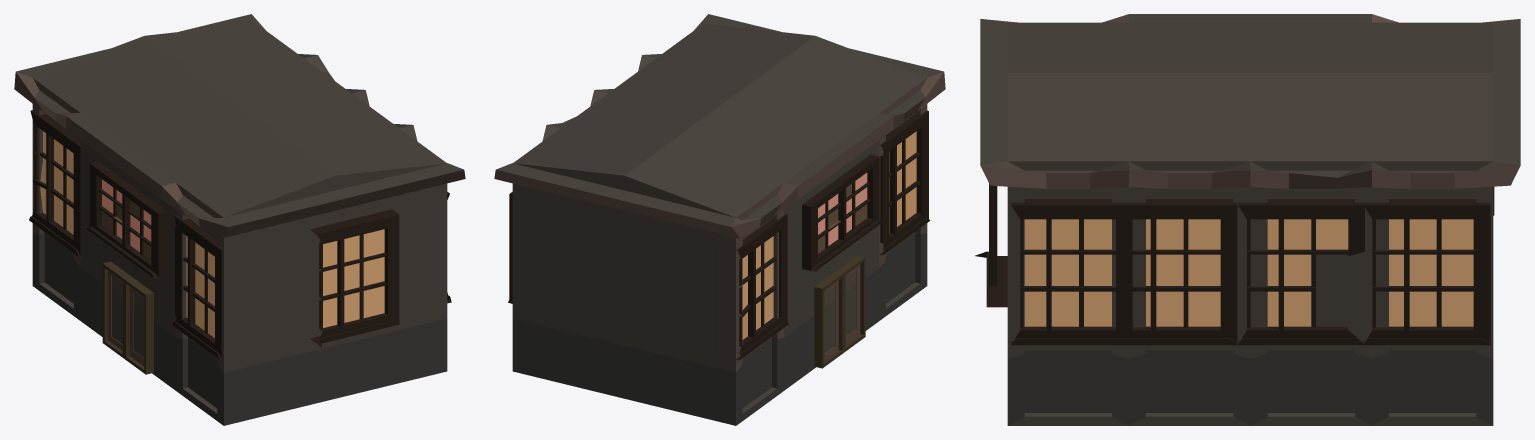
The model's file is warehouse.glb.
3 renders of one model, left to right at view 1: azimuth 30°, elevation 25°; view 2: azimuth 150°, elevation 25°; view 3: azimuth 270°, elevation 25°, orthographic. The views are drawn at different scales.
Visible parts, largest first — view 1: Cube, Cube.001, Cube.002, Cube.003; view 2: Cube, Cube.001, Cube.002, Cube.003; view 3: Cube, Cube.001.
Part boxes in pixels (x1=…): Cube: x1=14, y1=14, x2=465, y2=425; Cube.001: x1=29, y1=110, x2=451, y2=359; Cube.002: x1=86, y1=161, x2=167, y2=278; Cube.003: x1=102, y1=261, x2=153, y2=374; Cube: x1=494, y1=14, x2=945, y2=425; Cube.001: x1=508, y1=110, x2=930, y2=360; Cube.002: x1=802, y1=154, x2=882, y2=271; Cube.003: x1=814, y1=255, x2=865, y2=368; Cube: x1=980, y1=14, x2=1520, y2=425; Cube.001: x1=975, y1=184, x2=1494, y2=345.
Bounding box in the file's own units: 6.61 × 5.6 × 9.78.
